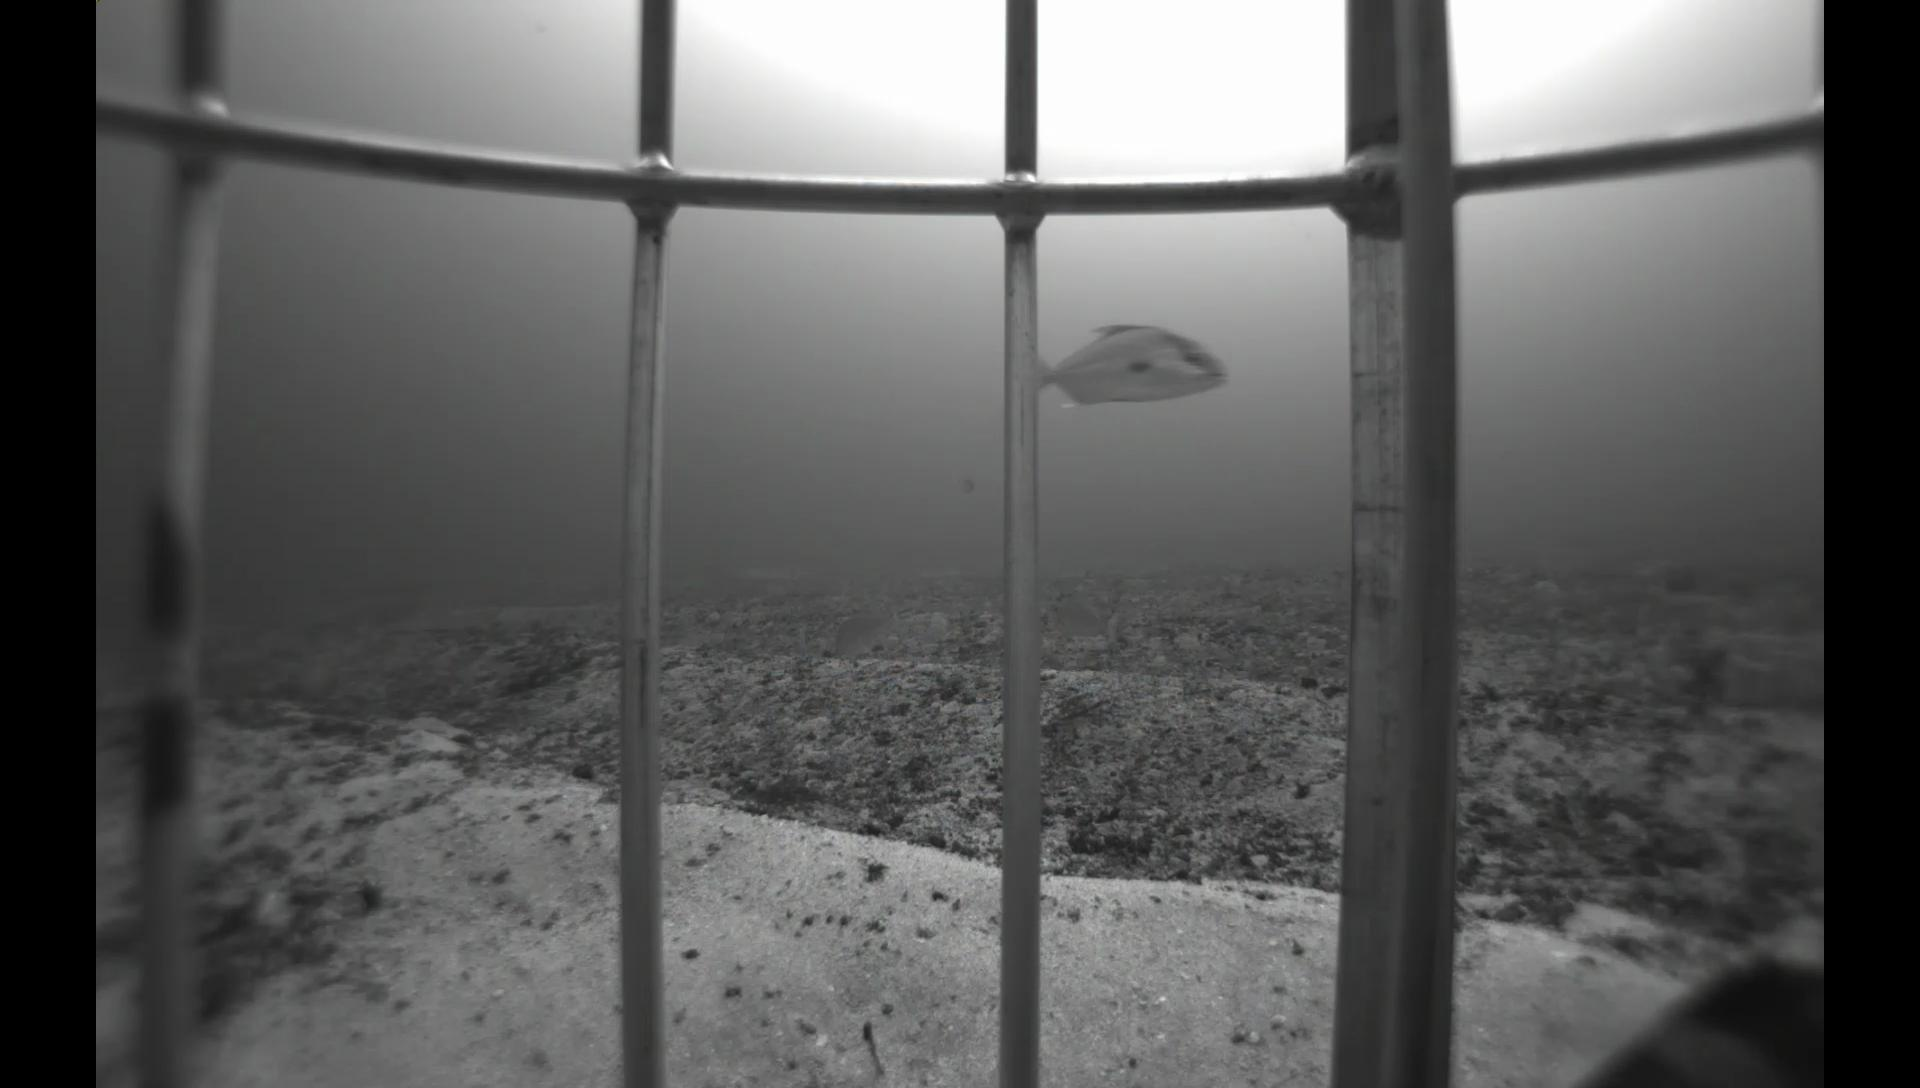CALAMUS-170210600: (1047, 589, 1125, 650), (831, 596, 898, 659)
EPINEPHELUSMORIO-170021211: (1561, 944, 1826, 1085)
RHOMBOPLITESAURORUBENS-170152001: (949, 469, 982, 499)
SERIOLARIVOLIANA-170113105: (1040, 314, 1236, 415)
